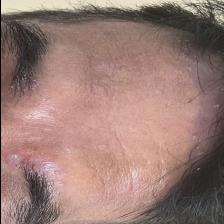Psoriasis vulgaris: (29, 48, 156, 182)
